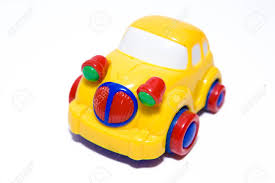cake: (56, 13, 226, 163)
mouse: (96, 84, 137, 126)
